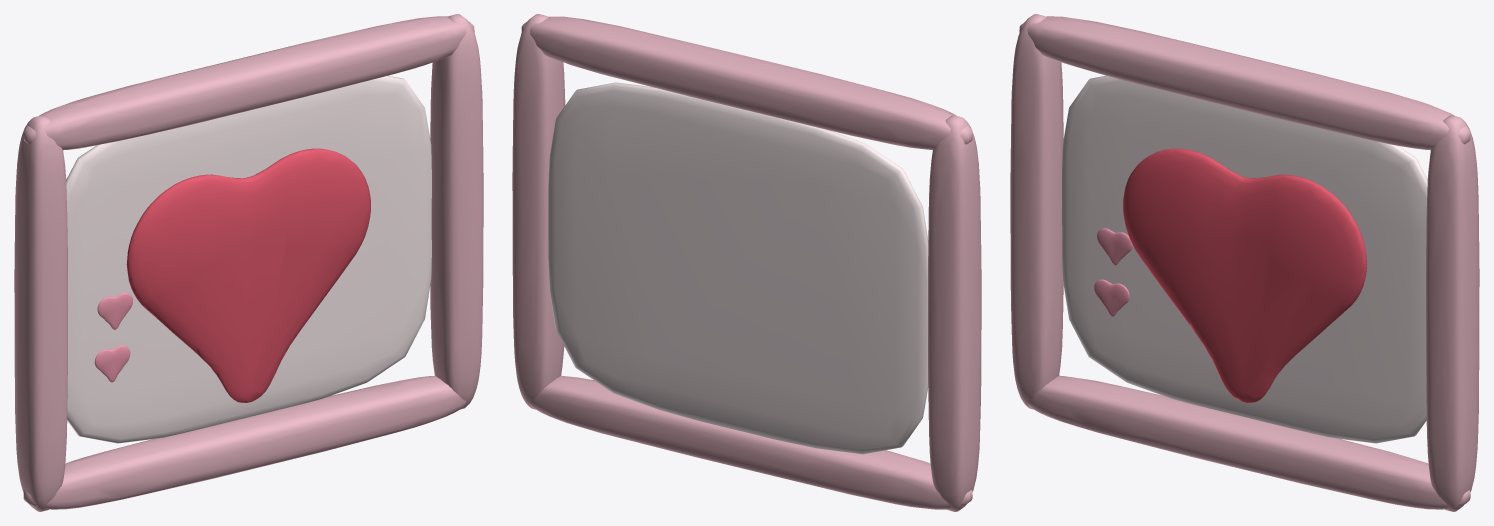
Rendered from deco_cuadro_corazon.glb.
3 views of the same model, side by side, from view 1: azimuth 30°, elevation 25°; view 2: azimuth 150°, elevation 25°; view 3: azimuth 330°, elevation 25° (orthographic).
Visible parts, largest first — view 1: lienzo, corazón cuadro, marco horizontal.001, marco horizontal, marco vertical, marco vertical.001, corazoncito 0, corazoncito 2; view 2: lienzo, marco horizontal.001, marco vertical, marco horizontal, marco vertical.001; view 3: lienzo, corazón cuadro, marco horizontal.001, marco horizontal, marco vertical.001, marco vertical, corazoncito 0, corazoncito 2.
Part boxes in pixels (bbox=[...]): lienzo: bbox=[66, 75, 431, 443]; corazón cuadro: bbox=[126, 148, 370, 402]; marco horizontal.001: bbox=[23, 16, 474, 150]; marco horizontal: bbox=[23, 376, 466, 509]; marco vertical: bbox=[14, 115, 67, 511]; marco vertical.001: bbox=[430, 14, 483, 409]; corazoncito 0: bbox=[94, 345, 130, 382]; corazoncito 2: bbox=[97, 292, 132, 329]; lienzo: bbox=[548, 82, 928, 454]; marco horizontal.001: bbox=[521, 16, 972, 149]; marco vertical: bbox=[928, 115, 981, 511]; marco horizontal: bbox=[529, 375, 972, 509]; marco vertical.001: bbox=[512, 14, 565, 409]; lienzo: bbox=[1062, 75, 1427, 443]; corazón cuadro: bbox=[1123, 148, 1367, 402]; marco horizontal.001: bbox=[1019, 16, 1470, 150]; marco horizontal: bbox=[1028, 375, 1470, 509]; marco vertical.001: bbox=[1426, 115, 1479, 511]; marco vertical: bbox=[1010, 14, 1063, 409]; corazoncito 0: bbox=[1094, 279, 1129, 316]; corazoncito 2: bbox=[1097, 228, 1132, 265].
Size of the model in its own units: 0.6297 by 0.5296 by 0.0598.
